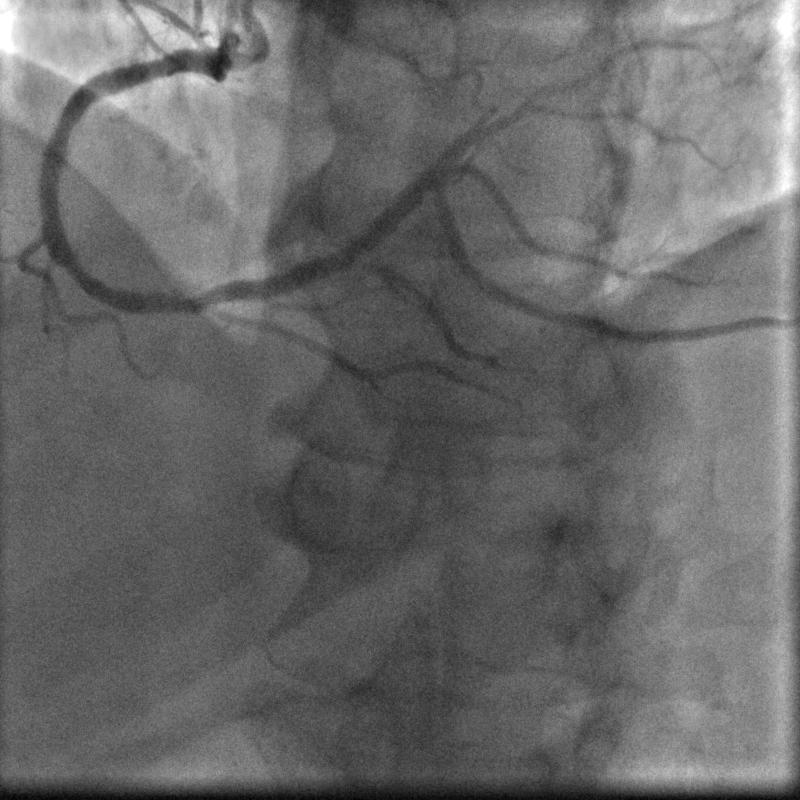Stenosis: (137, 280, 235, 312)
